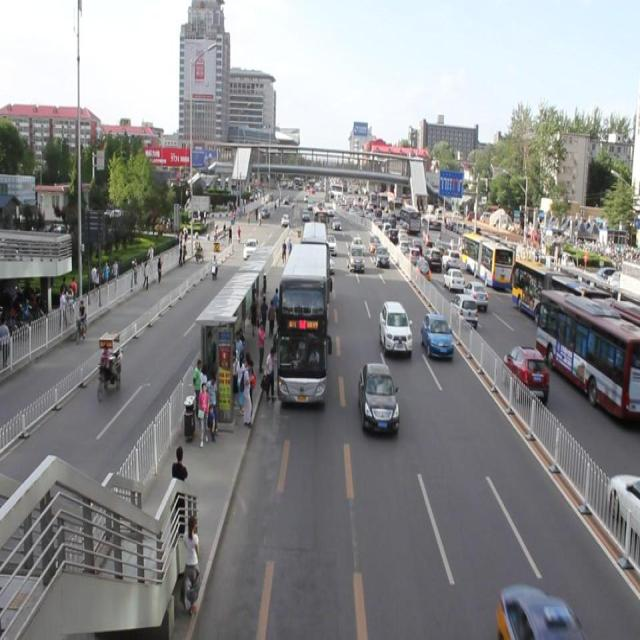car: (356, 360, 399, 435), (377, 299, 412, 354), (420, 310, 452, 358), (348, 244, 363, 272), (373, 244, 388, 267), (323, 232, 336, 255), (350, 234, 363, 253), (369, 231, 380, 251)
van: (278, 238, 326, 404), (300, 219, 329, 320)
